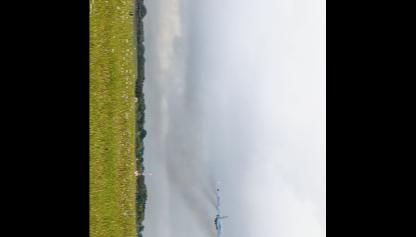B2: (214, 181, 231, 236)
